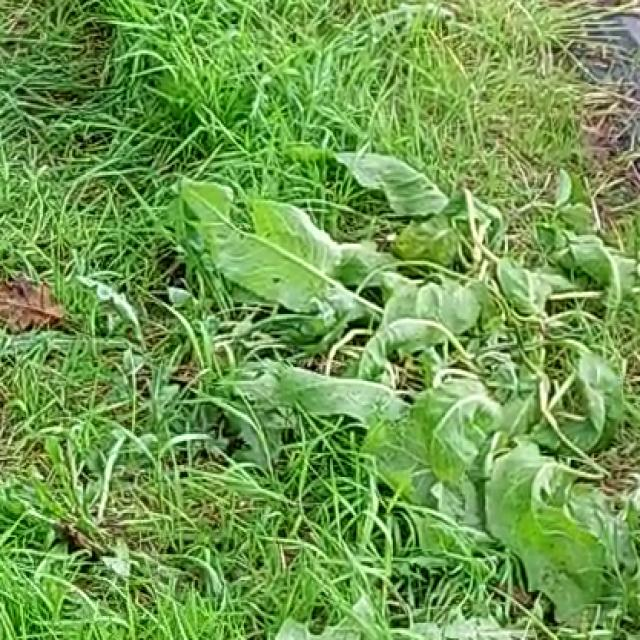organic waste: (185, 133, 640, 473)
